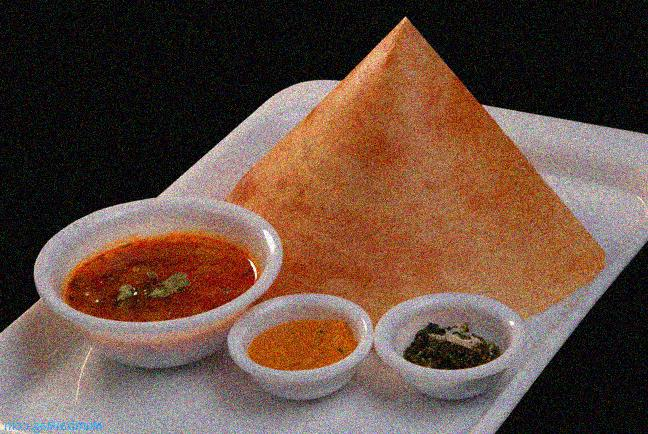dosa: (223, 16, 609, 318)
